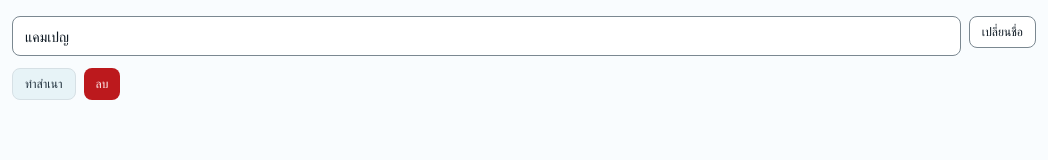
Scenario: DashboardActions quota feedback › shows a localized quota message when duplicate cannot claim another slot
Click the button "ทำสำเนา": (44, 84) [12,68,76,100]
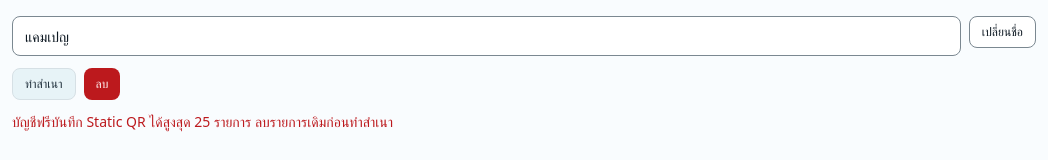
Expected: the message shows "บัญชีฟรีบันทึก Static QR ได้สูงสุด 25 รายการ", [12,112,393,131]
